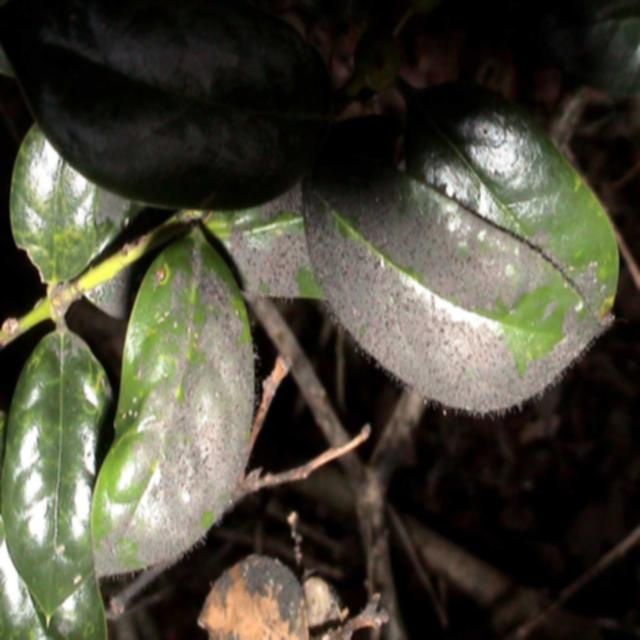Sooty Mold: (0, 0, 623, 639)
